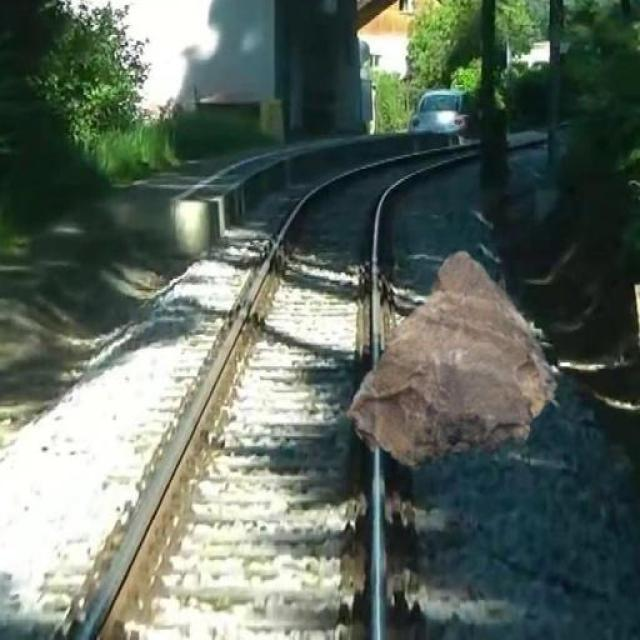Stone: (350, 248, 559, 470)
vehicle: (398, 87, 482, 142)
